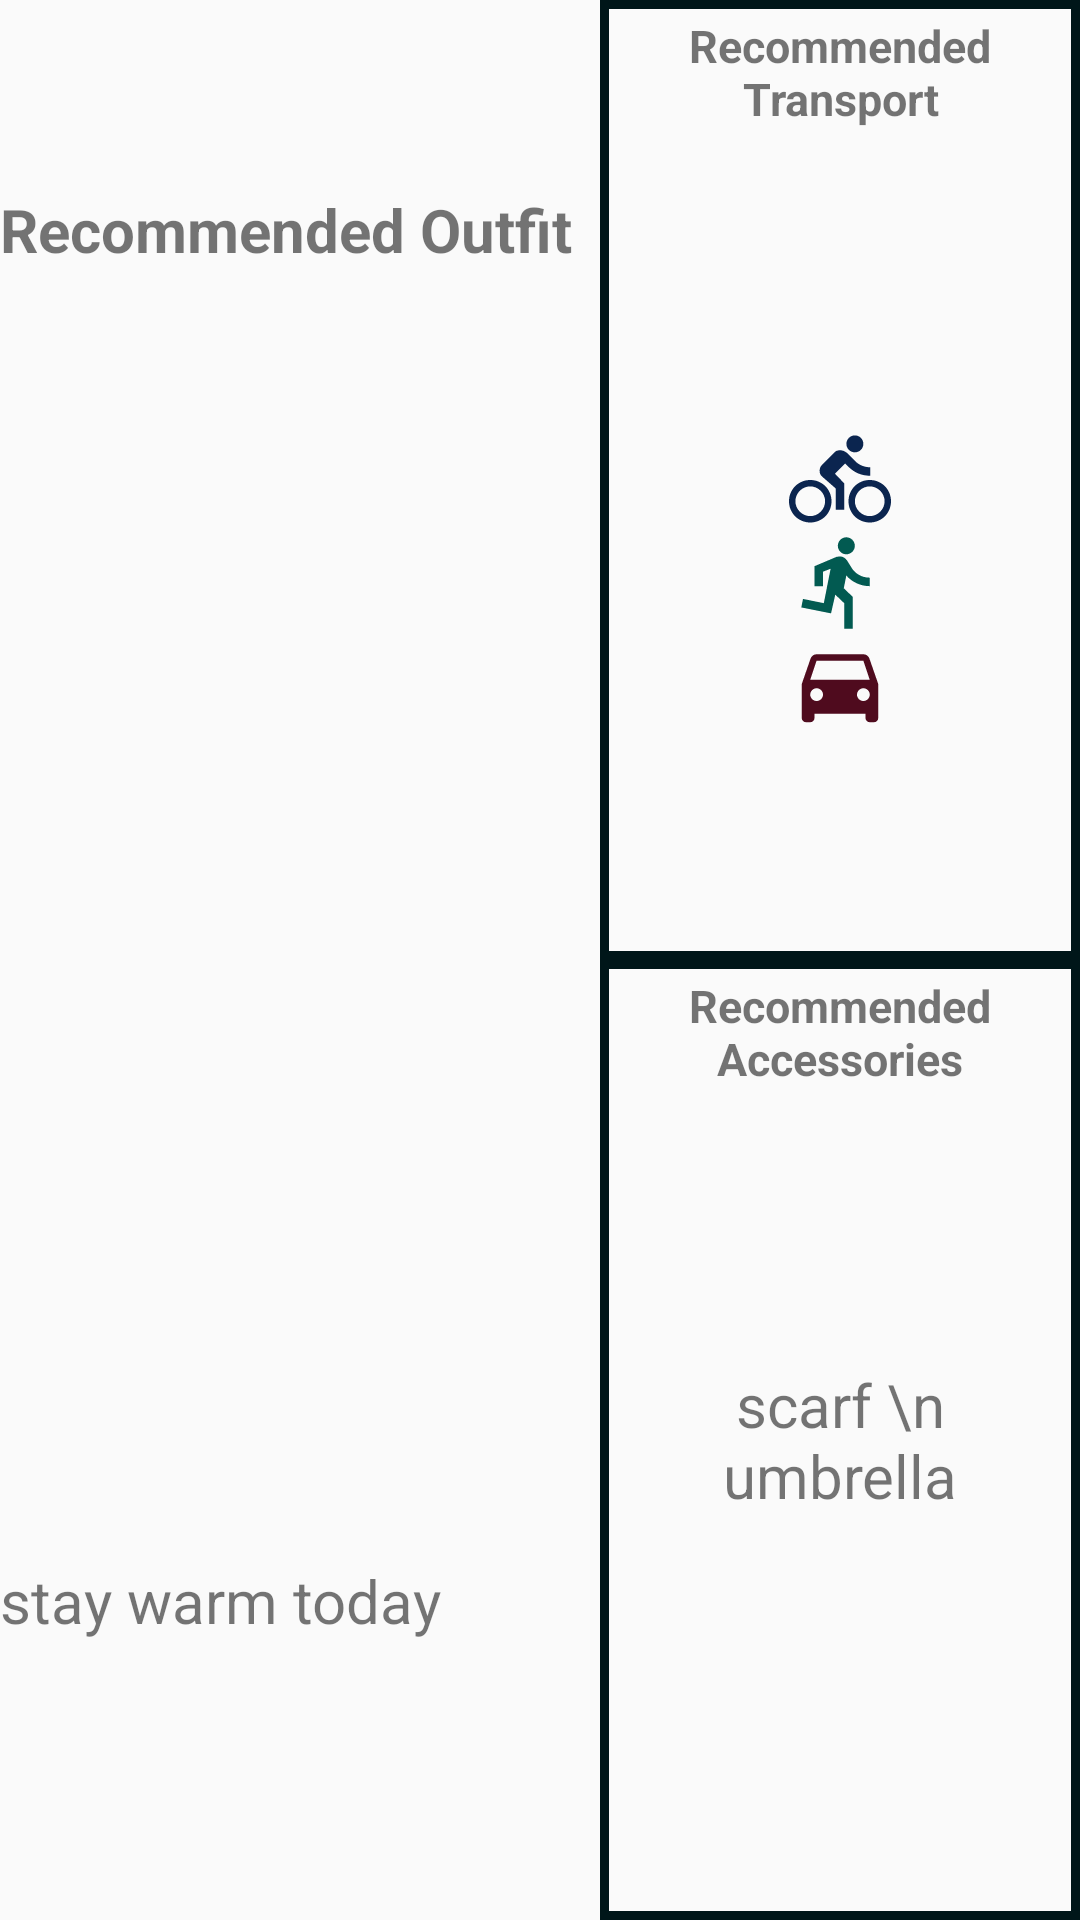

Named icons in this screenshot (1080*1920) and their centers, point (x, y):
directions bike: point (840, 479)
directions car: point (840, 688)
directions run: point (835, 583)
